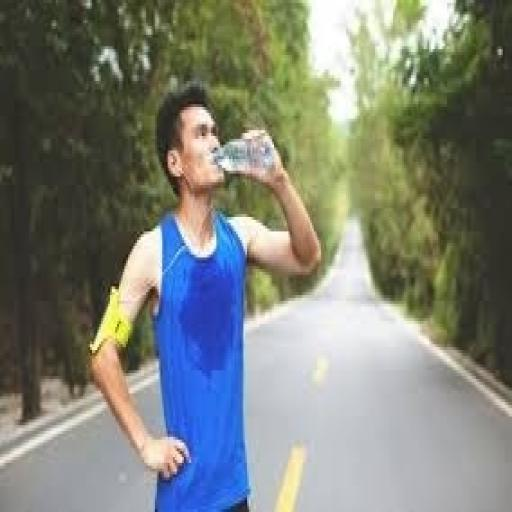drinking: (161, 130, 276, 260)
